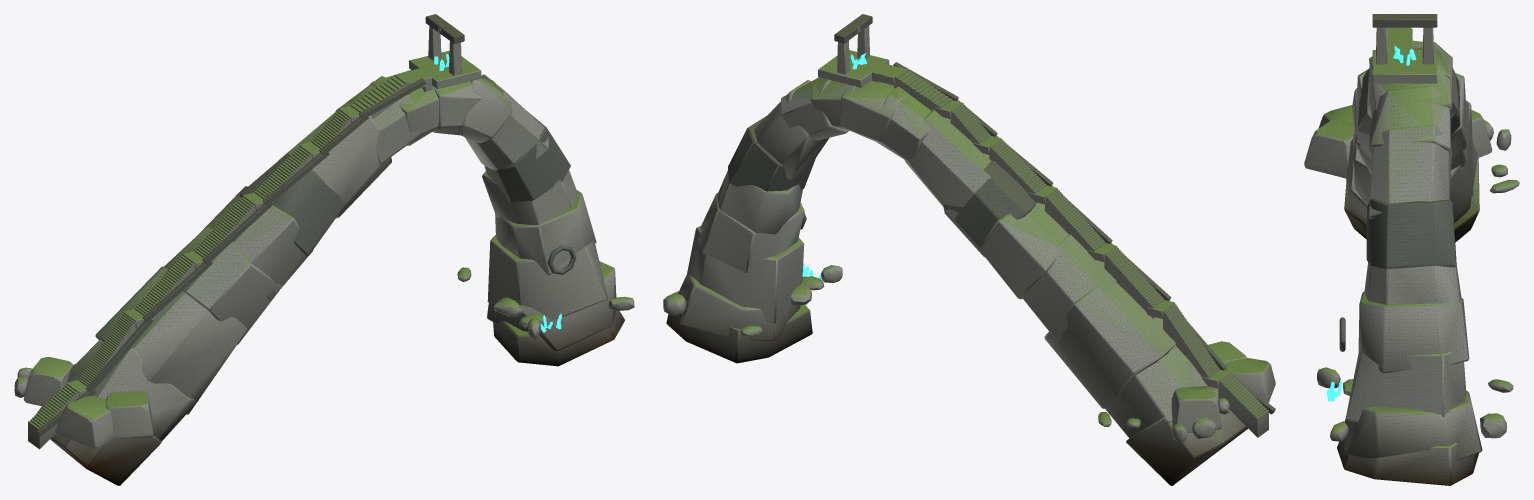
Rendered from landmark_sky_arch.glb.
3 views of the same model, side by side, from view 1: azimuth 30°, elevation 25°; view 2: azimuth 150°, elevation 25°; view 3: azimuth 270°, elevation 25° (orthographic). The views are drawn at different scales.
Parts seen in each view (by area): view 1: landmark_sky_arch; view 2: landmark_sky_arch; view 3: landmark_sky_arch.
Part boxes in pixels (x1,y1,x2,y2): landmark_sky_arch: [14, 14, 634, 485]; landmark_sky_arch: [663, 14, 1275, 485]; landmark_sky_arch: [1304, 14, 1519, 485].
Size of what is drawn, in the model's own units: 119 by 71.93 by 33.21.
5 materials, 3 textured.
